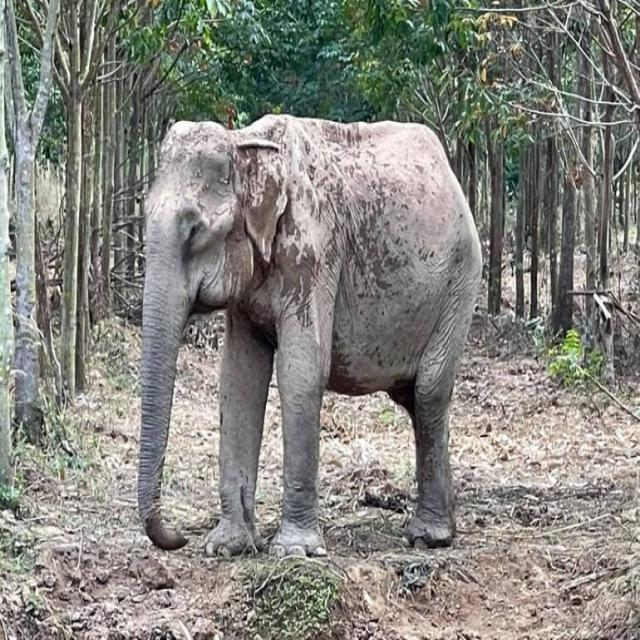Elephant: (90, 82, 512, 579)
